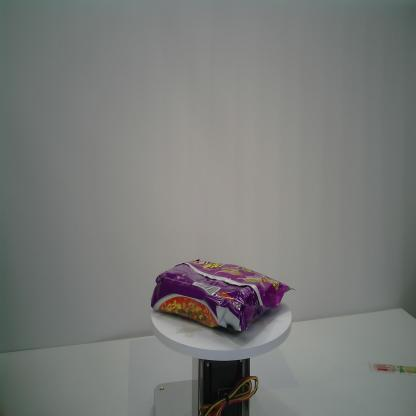Instant Noodles: (150, 258, 297, 334)
